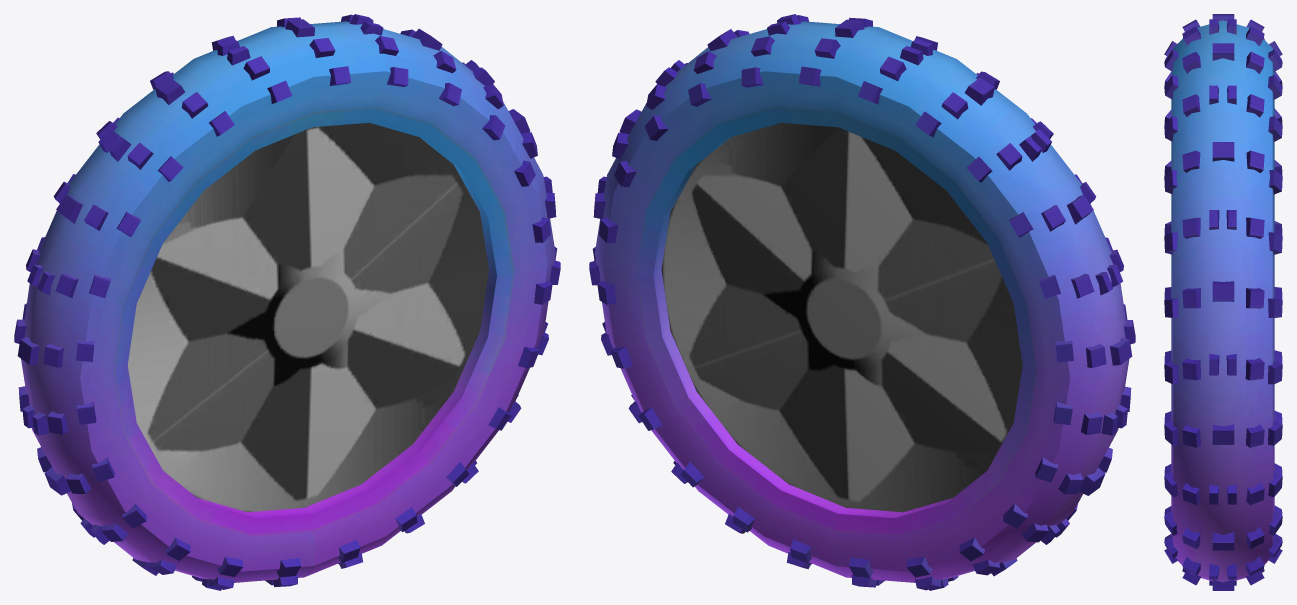
Rendered from wheelF_KTM.fbx.
3 views of the same model, side by side, from view 1: azimuth 30°, elevation 25°; view 2: azimuth 150°, elevation 25°; view 3: azimuth 270°, elevation 25° (orthographic). The views are drawn at different scales.
Parts seen in each view (by area): view 1: ktm_wheelF_1; view 2: ktm_wheelF_1; view 3: ktm_wheelF_1.
Boxes of the visible parts, bbox=[...] form: ktm_wheelF_1: bbox=[14, 14, 560, 590]; ktm_wheelF_1: bbox=[589, 14, 1135, 590]; ktm_wheelF_1: bbox=[1164, 14, 1282, 590].
Bounding box in the file's own units: 54.87 × 54.87 × 11.24.
